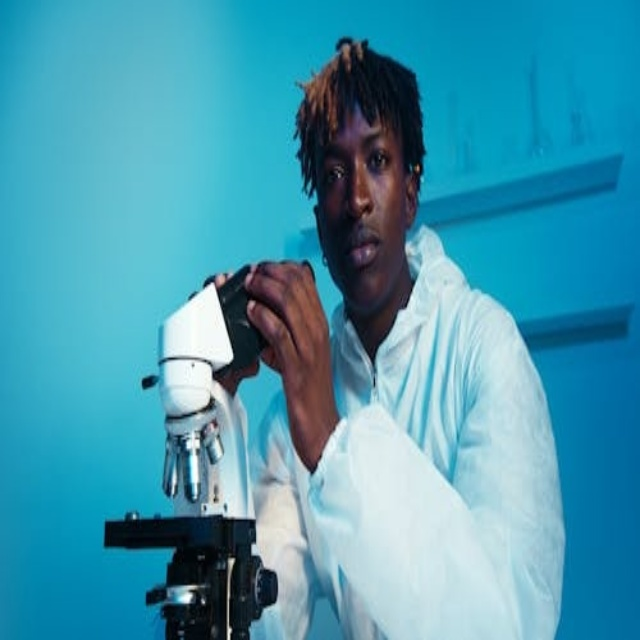Sin_gafas: (317, 128, 392, 191)
Sin_guantes: (244, 241, 343, 456)
Sin_mascara: (335, 223, 388, 294)
